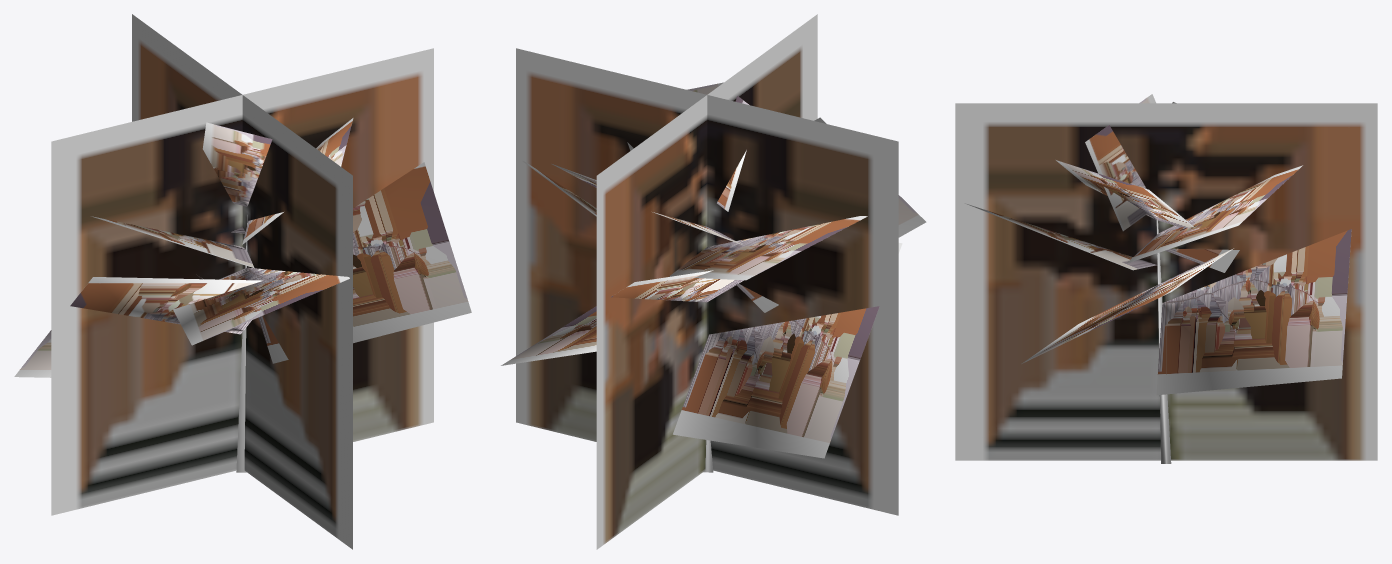
The model's file is Tree-Beech5D-mobile.fbx.
3 renders of one model, left to right at view 1: azimuth 30°, elevation 25°; view 2: azimuth 150°, elevation 25°; view 3: azimuth 270°, elevation 25°, orthographic. The views are drawn at different scales.
Parts seen in each view (by area): view 1: Billboard-BeechD, Tree-Beech5D-mobile_LOD0; view 2: Billboard-BeechD, Tree-Beech5D-mobile_LOD0; view 3: Billboard-BeechD, Tree-Beech5D-mobile_LOD0.
Part boxes in pixels (box(x1,y1,x2,y2)): Billboard-BeechD: box(51, 14, 433, 549); Tree-Beech5D-mobile_LOD0: box(14, 118, 471, 472); Billboard-BeechD: box(516, 14, 898, 549); Tree-Beech5D-mobile_LOD0: box(501, 82, 926, 472); Billboard-BeechD: box(955, 103, 1377, 460); Tree-Beech5D-mobile_LOD0: box(965, 94, 1351, 463).
Size of what is drawn, in the model's own units: 709 by 666 by 709.
